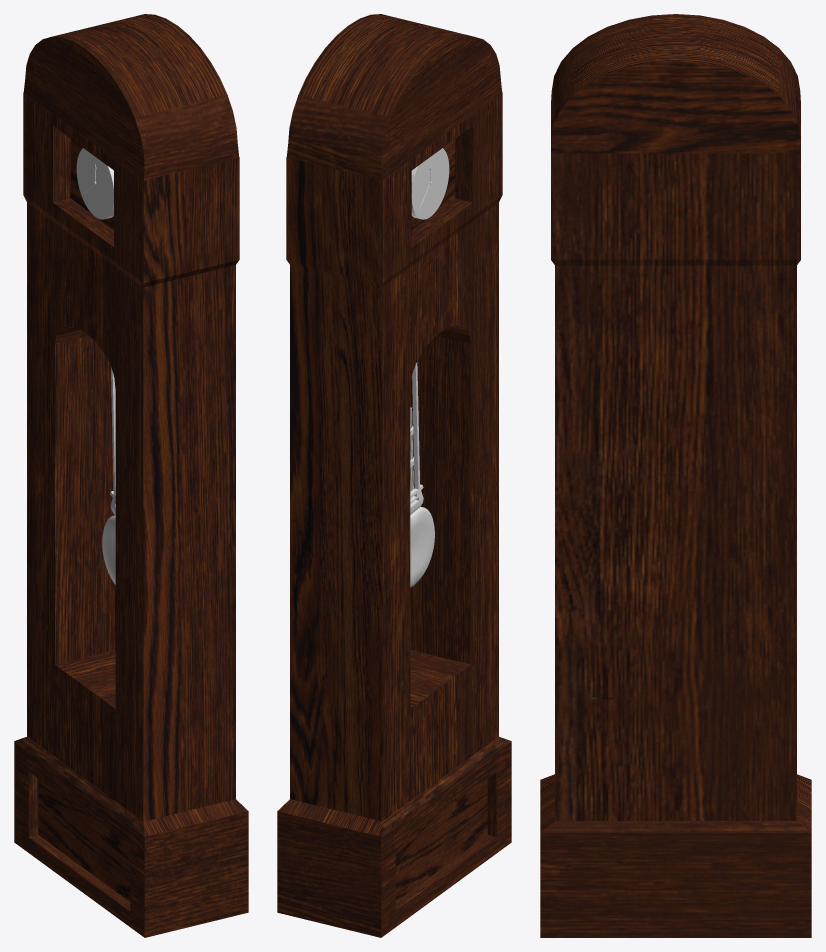
The model's file is clock 1.fbx.
3 views of the same model, side by side, from view 1: azimuth 30°, elevation 25°; view 2: azimuth 150°, elevation 25°; view 3: azimuth 270°, elevation 25° (orthographic). The views are drawn at different scales.
Visible parts, largest first — view 1: Cylinder, Cylinder.002, Pendulum; view 2: Cylinder, Pendulum, Cylinder.002; view 3: Cylinder.
Part boxes in pixels (x1=…): Cylinder: x1=14, y1=14, x2=248, y2=937; Cylinder.002: x1=76, y1=148, x2=113, y2=219; Pendulum: x1=102, y1=367, x2=115, y2=584; Cylinder: x1=277, y1=14, x2=511, y2=937; Pendulum: x1=410, y1=362, x2=434, y2=587; Cylinder.002: x1=411, y1=148, x2=449, y2=219; Cylinder: x1=540, y1=14, x2=811, y2=937.
Size of the model in its own units: 96.16 by 743 by 209.
Materials: 2 (1 with a texture image).
